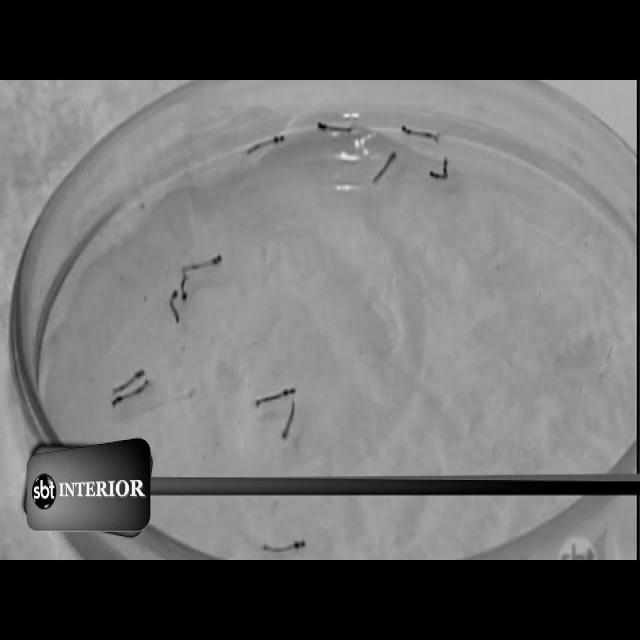larvas: (112, 378, 148, 405), (245, 132, 284, 156), (113, 366, 145, 393), (373, 149, 397, 183), (256, 386, 296, 406), (182, 253, 222, 272), (402, 124, 439, 143), (317, 118, 356, 134), (265, 539, 305, 553), (283, 400, 294, 439), (169, 288, 181, 323), (429, 162, 449, 178), (179, 274, 190, 301)
